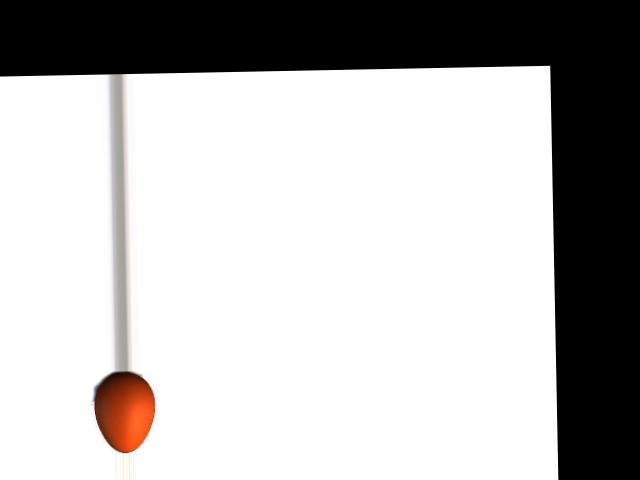egg: (93, 371, 155, 452)
